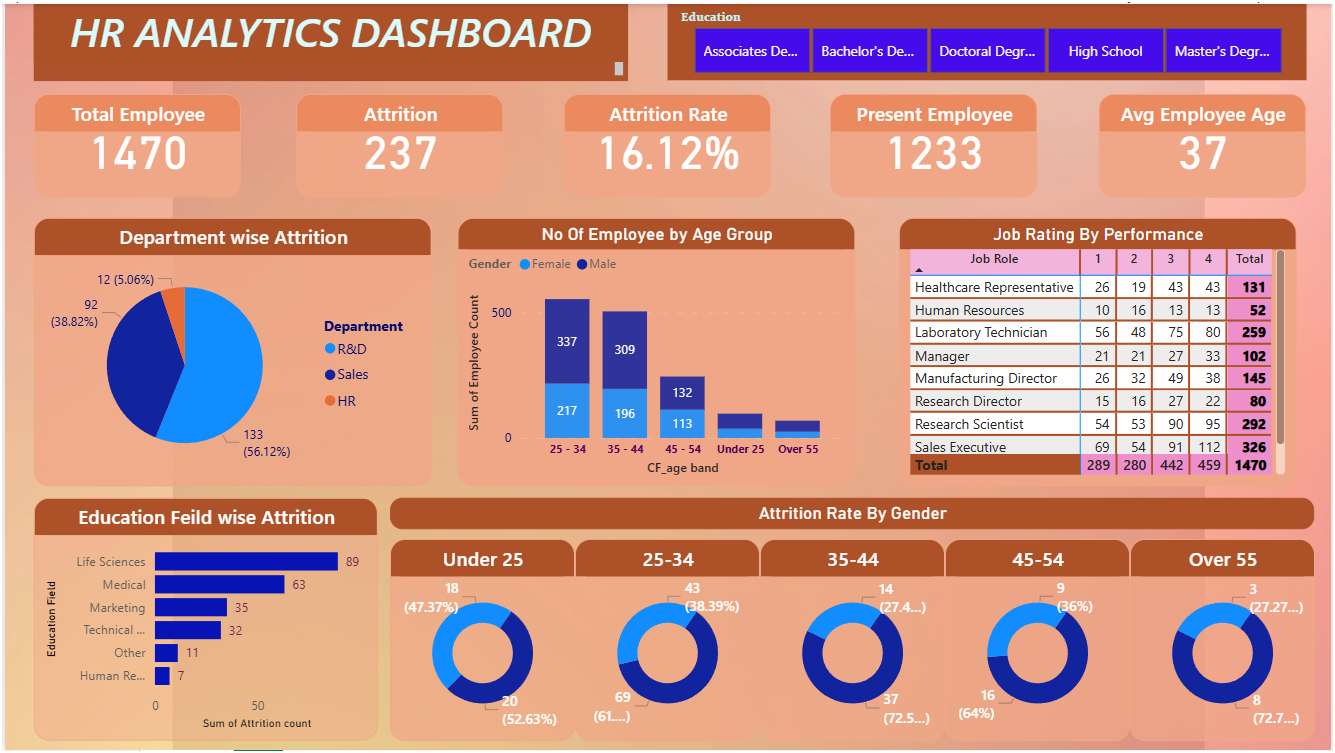

The dashboard page shown, as its layout file describes it:
{"tool":"powerbi","page":{"name":"Page 1","canvas":[1280,720],"ordinal":0},"visuals":[{"type":"card","title":"Total Employee","fields":{"Values":["Sum(HR data.Employee Count)"]},"box":[27.4,86.4,200.3,100.2],"z":0},{"type":"card","title":"Attrition","fields":{"Values":["Sum(HR data.Attrition count)"]},"box":[281.3,86.4,200.3,100.2],"z":1000},{"type":"card","title":"Attrition Rate","fields":{"Values":["HR data.Attriton Rate"]},"box":[539.3,86.4,200.3,100.2],"z":2000},{"type":"card","title":"Present Employee","fields":{"Values":["HR data.Present Employee"]},"box":[795.9,86.4,200.3,100.2],"z":3000},{"type":"card","title":"Avg Employee Age","fields":{"Values":["Avg(HR data.Age)"]},"box":[1055.2,86.4,200.3,100.2],"z":4000},{"type":"pieChart","title":"Department wise Attrition","fields":{"Y":["Sum(HR data.Attrition count)"],"Category":["HR data.Department"]},"box":[27.4,205.8,384.2,259.3],"z":5000},{"type":"columnChart","title":"No Of Employee by Age Group ","fields":{"Category":["HR data.CF_age band"],"Y":["Sum(HR data.Employee Count)"],"Series":["HR data.Gender"]},"box":[436.4,205.8,384.2,259.3],"z":6000},{"type":"pivotTable","title":"Job Rating By Performance","fields":{"Rows":["HR data.Job Role"],"Columns":["HR data.Job Satisfaction"],"Values":["Sum(HR data.Employee Count)"]},"box":[863.1,205.8,384.2,259.3],"z":7000},{"type":"barChart","title":"Education Feild wise Attrition","fields":{"Category":["HR data.Education Field"],"Y":["Sum(HR data.Attrition count)"]},"box":[27.4,476.2,332.1,234.6],"z":8000},{"type":"donutChart","title":"Under 25","fields":{"Category":["HR data.Gender"],"Series":["HR data.CF_age band"],"Y":["Sum(HR data.Attrition count)"]},"box":[371.9,516,178.4,194.9],"z":9000},{"type":"textbox","title":"Attrition Rate By Gender","box":[371.9,476.2,891.9,30.2],"z":10000},{"type":"donutChart","title":"25-34","fields":{"Category":["HR data.Gender"],"Series":["HR data.CF_age band"],"Y":["Sum(HR data.Attrition count)"]},"box":[550.3,516,178.4,194.9],"z":11000},{"type":"donutChart","title":"35-44","fields":{"Category":["HR data.Gender"],"Series":["HR data.CF_age band"],"Y":["Sum(HR data.Attrition count)"]},"box":[728.6,516,178.4,194.9],"z":12000},{"type":"donutChart","title":"45-54","fields":{"Category":["HR data.Gender"],"Series":["HR data.CF_age band"],"Y":["Sum(HR data.Attrition count)"]},"box":[907,516,178.4,194.9],"z":13000},{"type":"donutChart","title":"Over 55","fields":{"Category":["HR data.Gender"],"Series":["HR data.CF_age band"],"Y":["Sum(HR data.Attrition count)"]},"box":[1085.4,516,178.4,194.9],"z":14000},{"type":"textbox","title":"HR ANALYTICS DASHBOARD","box":[27.4,0,573.6,74.1],"z":15000},{"type":"slicer","fields":{"Values":["HR data.Education"]},"box":[639.4,0,616.5,73.6],"z":16000}]}

Visuals, with their boxes in screenshot pixels (x1, y1, x2, y2), scaled from the page's 1280x720 canvas onto the 1335x753 screenshot:
"Total Employee" card: [left=29, top=90, right=237, bottom=195]
"Attrition" card: [left=293, top=90, right=502, bottom=195]
"Attrition Rate" card: [left=562, top=90, right=771, bottom=195]
"Present Employee" card: [left=830, top=90, right=1039, bottom=195]
"Avg Employee Age" card: [left=1101, top=90, right=1309, bottom=195]
"Department wise Attrition" pieChart: [left=29, top=215, right=429, bottom=486]
"No Of Employee by Age Group " columnChart: [left=455, top=215, right=856, bottom=486]
"Job Rating By Performance" pivotTable: [left=900, top=215, right=1301, bottom=486]
"Education Feild wise Attrition" barChart: [left=29, top=498, right=375, bottom=743]
"Under 25" donutChart: [left=388, top=540, right=574, bottom=743]
"Attrition Rate By Gender" textbox: [left=388, top=498, right=1318, bottom=530]
"25-34" donutChart: [left=574, top=540, right=760, bottom=743]
"35-44" donutChart: [left=760, top=540, right=946, bottom=743]
"45-54" donutChart: [left=946, top=540, right=1132, bottom=743]
"Over 55" donutChart: [left=1132, top=540, right=1318, bottom=743]
"HR ANALYTICS DASHBOARD" textbox: [left=29, top=0, right=627, bottom=77]
slicer - HR data.Education: [left=667, top=0, right=1310, bottom=77]
